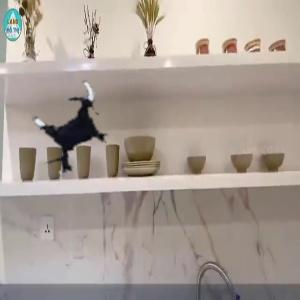drone: (18, 76, 123, 181)
